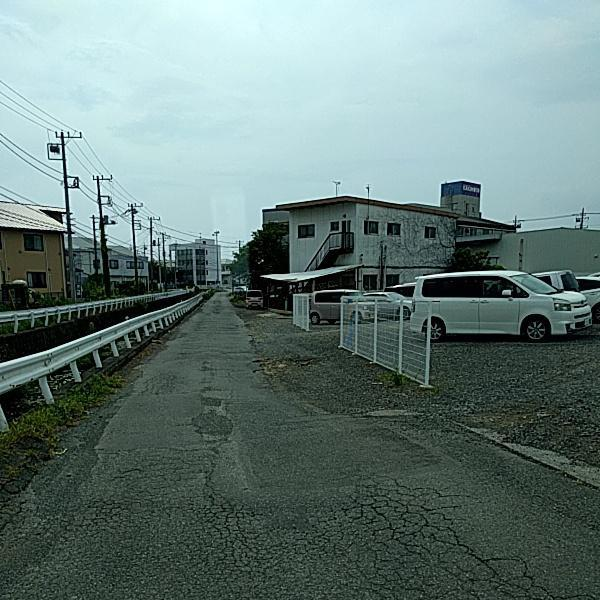D20: (32, 416, 577, 598)
